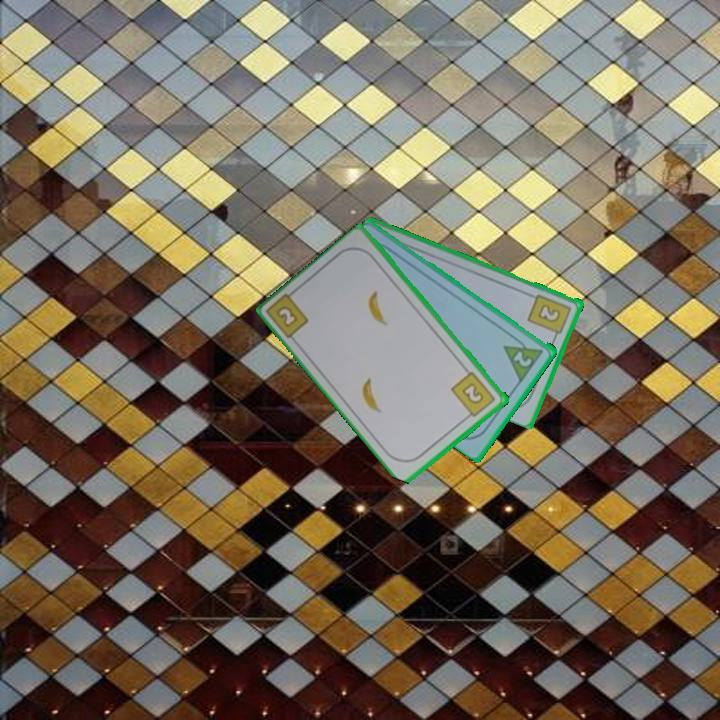2b: (448, 368, 499, 422), (525, 290, 574, 342), (275, 304, 301, 330)
2p: (500, 331, 547, 384)
